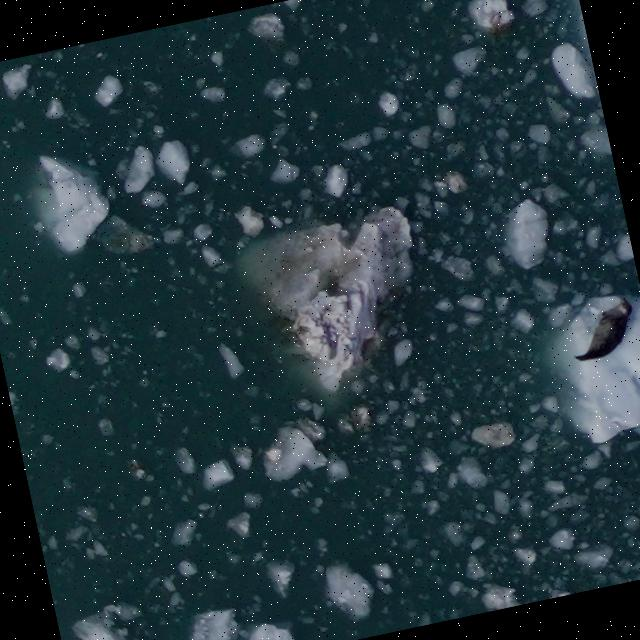seal: (559, 292, 640, 366)
